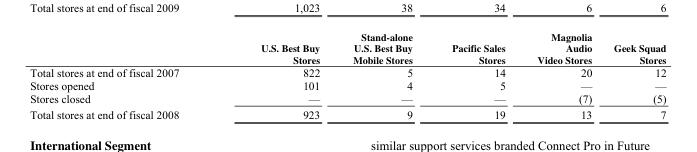table: (29, 29, 665, 120)
table column: (29, 29, 219, 120), (219, 29, 335, 120), (335, 29, 431, 120), (431, 29, 520, 120), (520, 29, 602, 120), (602, 29, 665, 120)
table column header: (29, 29, 665, 66)
table row: (29, 29, 665, 66), (29, 91, 665, 106), (29, 106, 665, 120), (29, 78, 665, 91), (29, 66, 665, 78)
